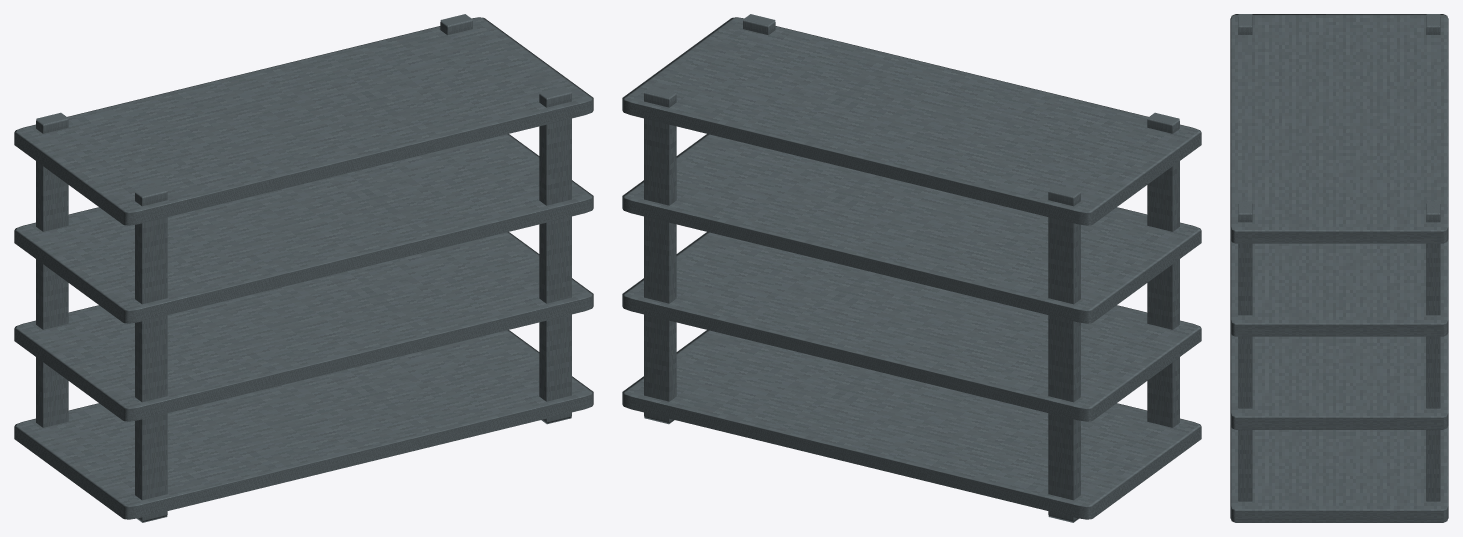
File: dumbbell-rack.glb
3 views of the same model, side by side, from view 1: azimuth 30°, elevation 25°; view 2: azimuth 150°, elevation 25°; view 3: azimuth 270°, elevation 25° (orthographic). The views are drawn at different scales.
Parts seen in each view (by area): view 1: shelf (×4), leg (×3); view 2: shelf (×4), leg (×3); view 3: shelf (×4), leg (×4).
Part boxes in pixels (x1,y1,x2,y2): shelf (×4): [14, 17, 593, 519]; leg (×3): [36, 86, 571, 522]; shelf (×4): [622, 17, 1201, 519]; leg (×3): [644, 86, 1179, 522]; shelf (×4): [1230, 14, 1448, 522]; leg (×4): [1238, 14, 1440, 501].
Bounding box in the file's own units: 1.25 × 0.83 × 0.53.
1 material, 1 textured.
